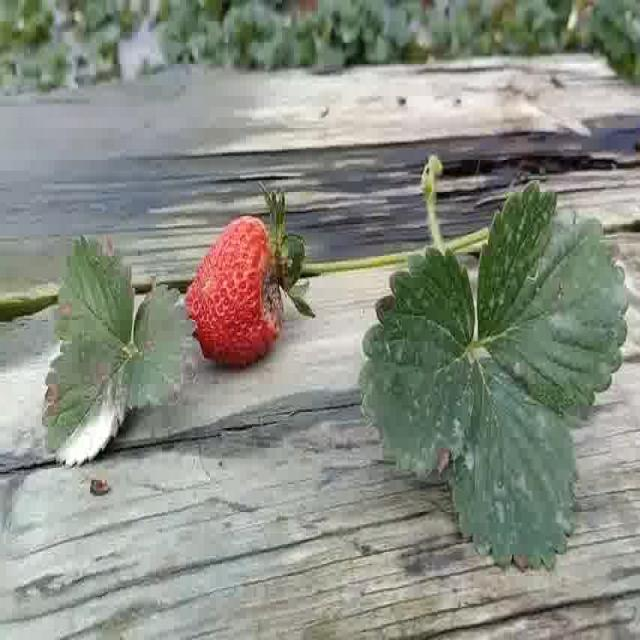Mancha negra Antracnosis: (181, 214, 298, 383)
